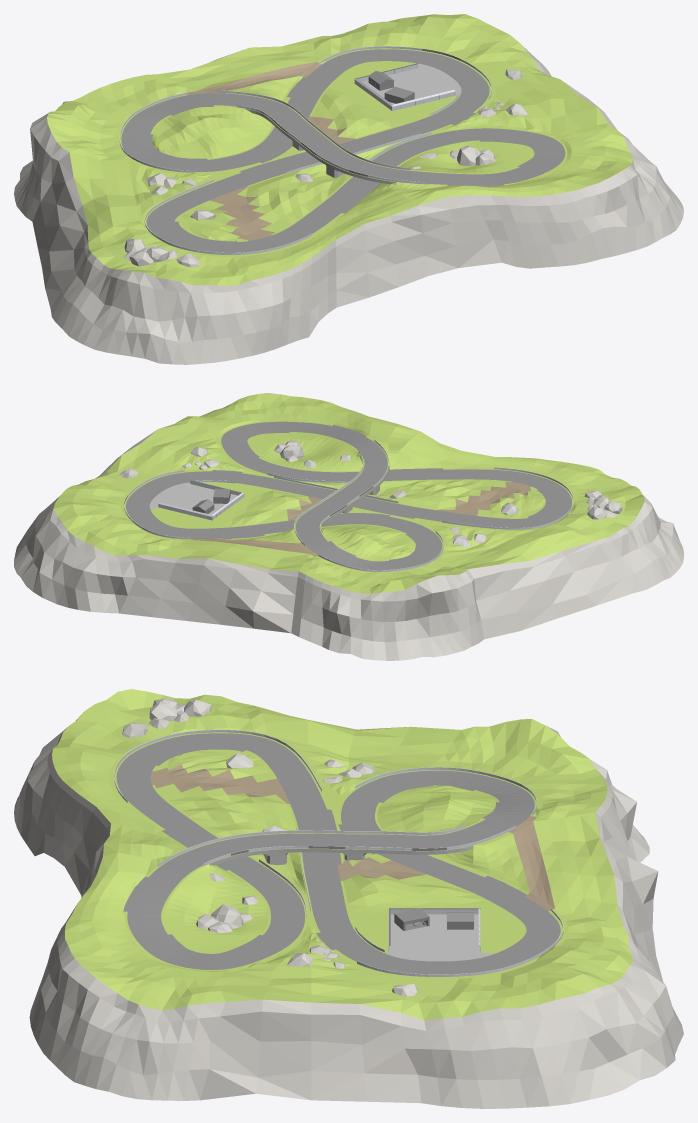
Rendered from col.fbx.
The picture shows the model from 3 angles, top to bottom: view 1: azimuth 30°, elevation 25°; view 2: azimuth 150°, elevation 25°; view 3: azimuth 270°, elevation 25°; orthographic projection. The views are drawn at different scales.
Parts seen in each view (by area): view 1: rarui.col.rarui.ColMesh; view 2: rarui.col.rarui.ColMesh; view 3: rarui.col.rarui.ColMesh.
Boxes of the visible parts, <box> form: rarui.col.rarui.ColMesh: <box>14,14,683,364</box>; rarui.col.rarui.ColMesh: <box>14,393,683,660</box>; rarui.col.rarui.ColMesh: <box>14,689,683,1108</box>.
Bounding box in the file's own units: 33454 × 4461 × 25905.
